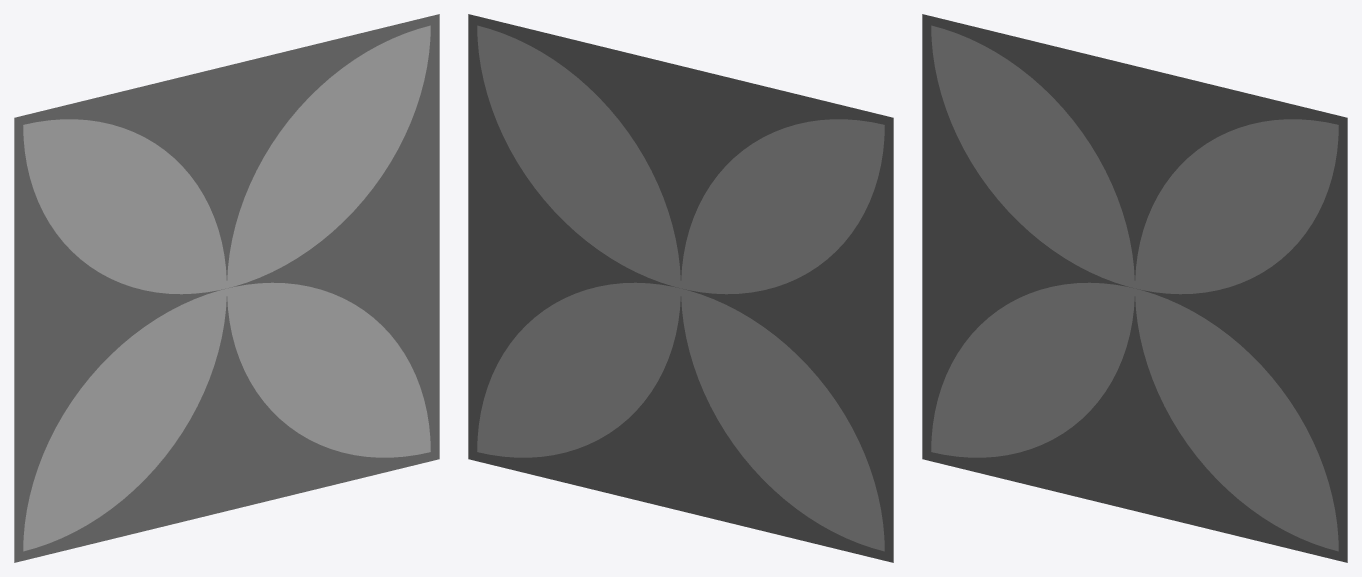
File: petals.gltf
The picture shows the model from 3 angles, left to right: view 1: azimuth 30°, elevation 25°; view 2: azimuth 150°, elevation 25°; view 3: azimuth 330°, elevation 25°; orthographic projection.
Visible parts, largest first — view 1: petals; view 2: petals; view 3: petals.
Boxes of the visible parts, x1=… form: petals: x1=14, y1=14, x2=439, y2=562; petals: x1=468, y1=14, x2=893, y2=562; petals: x1=922, y1=14, x2=1347, y2=562.
Size of the model in its own units: 610 by 610 by 0.
5 materials, 5 textured.
